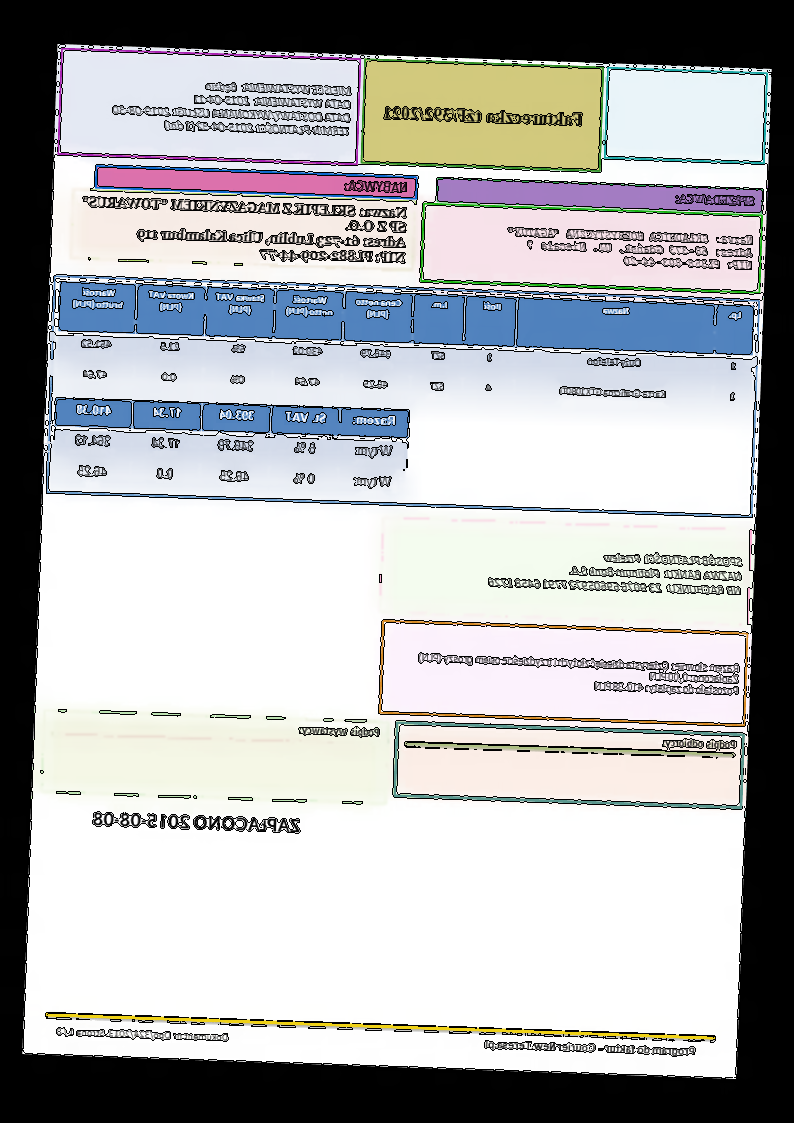Table: (55, 279, 755, 419), (52, 396, 410, 501)
TextBox: (79, 194, 409, 266), (416, 650, 740, 697), (110, 77, 353, 139), (486, 545, 745, 597), (506, 224, 755, 272), (383, 103, 585, 128), (92, 810, 302, 834), (483, 1037, 698, 1060), (54, 1024, 230, 1045), (298, 722, 382, 741), (672, 191, 757, 209), (661, 735, 738, 752), (343, 177, 409, 195)
